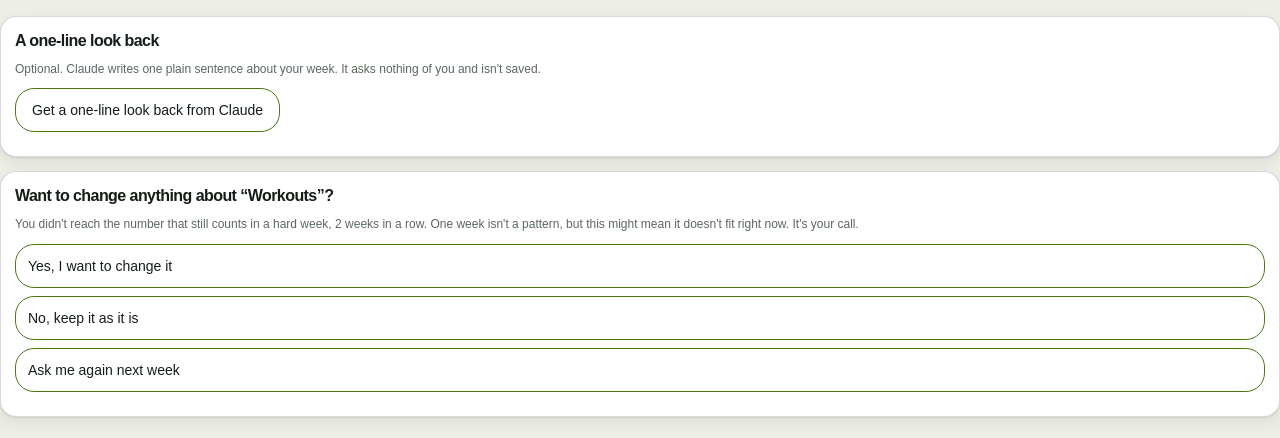
it: layer 2: Claude's one-line look back › says plainly when the line is one Momentum wrote because Claude's did not pass the checks
Click the button "Get a one-line look back from Claude": (148, 110) [15,88,280,132]
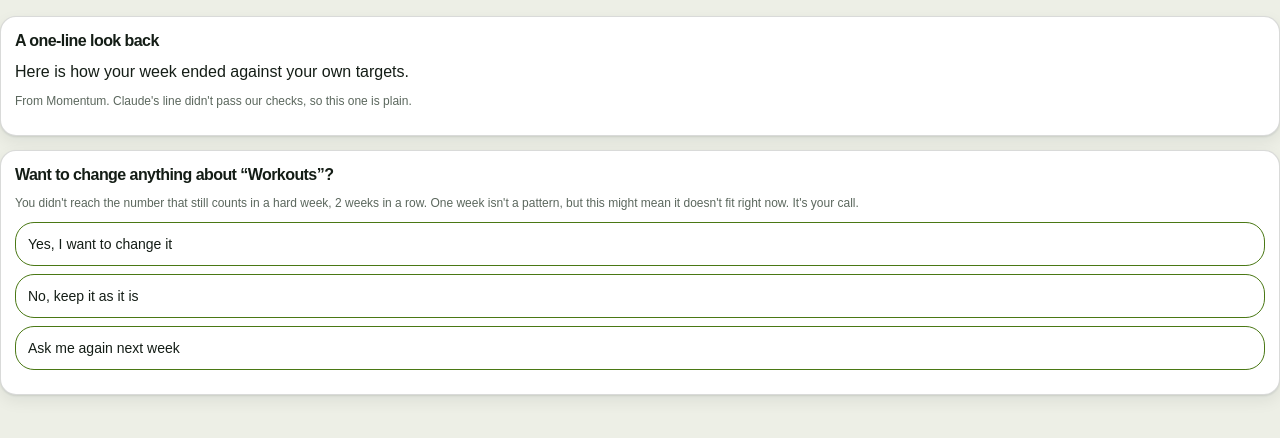
Expected: the text "From Momentum. Claude's line didn't pass our checks, so this one is plain." is shown, [15,94,412,108]
Expected: the text "From Claude." is gone
